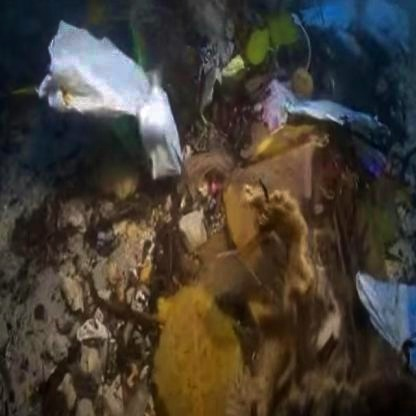plastic: (40, 44, 199, 192), (249, 96, 400, 172)
